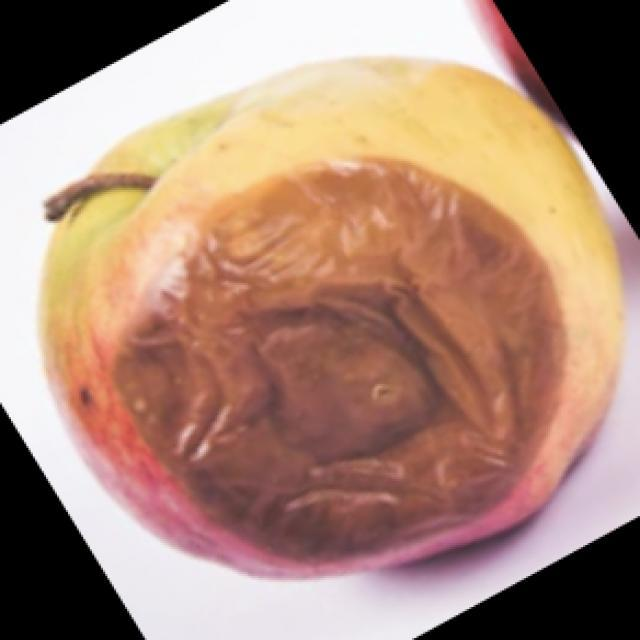Rotten: (49, 60, 628, 572)
